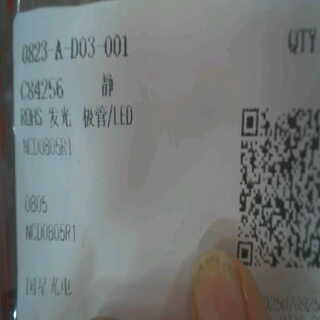LED: (42, 103, 150, 127)
